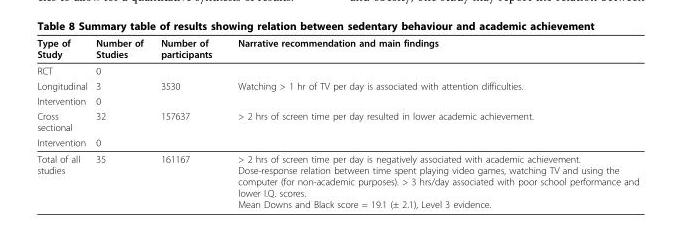table: (36, 36, 638, 209)
table column: (224, 36, 638, 209), (151, 36, 224, 209), (91, 36, 151, 209), (36, 36, 91, 209)
table column header: (36, 36, 638, 62)
table row: (36, 150, 638, 209), (36, 36, 638, 62), (36, 108, 638, 134), (36, 62, 638, 78), (36, 134, 638, 150), (36, 78, 638, 93), (36, 93, 638, 108)
